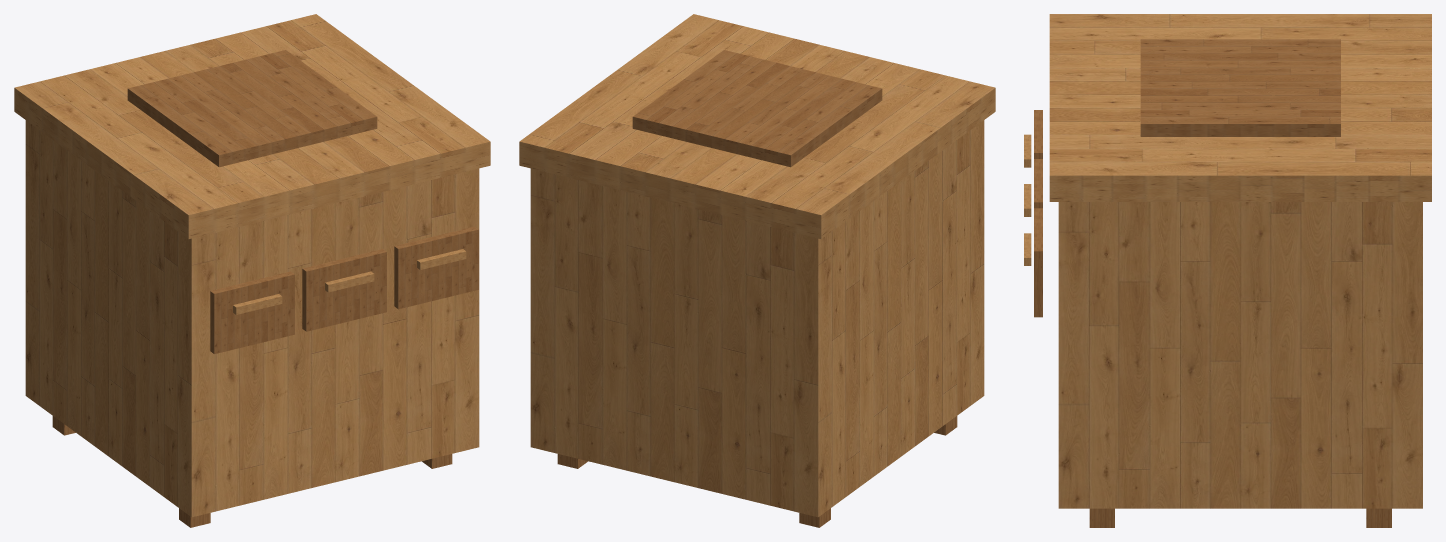
File: vanity.gltf
3 views of the same model, side by side, from view 1: azimuth 30°, elevation 25°; view 2: azimuth 150°, elevation 25°; view 3: azimuth 270°, elevation 25° (orthographic). The views are drawn at different scales.
Parts seen in each view (by area): view 1: body, top, basin, drawer_0, drawer_-0.32, drawer_0.32, drawer_handle_-0.32, drawer_handle_0, drawer_handle_0.32; view 2: body, top, basin; view 3: body, top, basin, drawer_0.32, foot_1, foot_3.
Boxes of the visible parts, bbox=[...] form: body: bbox=[25, 120, 479, 517]; top: bbox=[14, 14, 490, 239]; basin: bbox=[127, 50, 377, 167]; drawer_0: bbox=[302, 249, 386, 331]; drawer_-0.32: bbox=[210, 271, 294, 354]; drawer_0.32: bbox=[394, 226, 478, 309]; drawer_handle_-0.32: bbox=[233, 294, 282, 314]; drawer_handle_0: bbox=[325, 271, 374, 292]; drawer_handle_0.32: bbox=[417, 249, 466, 269]; body: bbox=[530, 120, 984, 517]; top: bbox=[519, 14, 995, 239]; basin: bbox=[632, 50, 882, 167]; body: bbox=[1058, 202, 1422, 508]; top: bbox=[1049, 14, 1431, 201]; basin: bbox=[1140, 39, 1340, 136]; drawer_0.32: bbox=[1034, 208, 1042, 317]; foot_1: bbox=[1366, 508, 1391, 527]; foot_3: bbox=[1089, 508, 1114, 527].
Bounding box in the file's own units: 1.05 × 1.14 × 1.12.
Materials: 3 (3 with a texture image).
